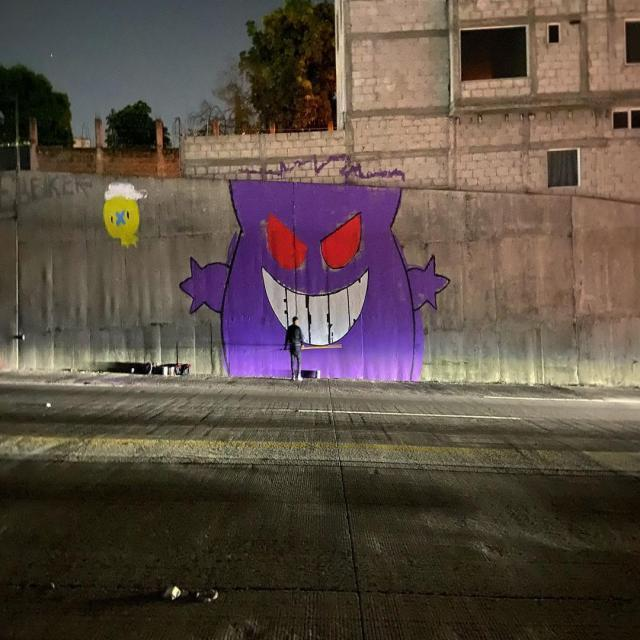nonspitting: (179, 156, 451, 382), (102, 181, 146, 248)
